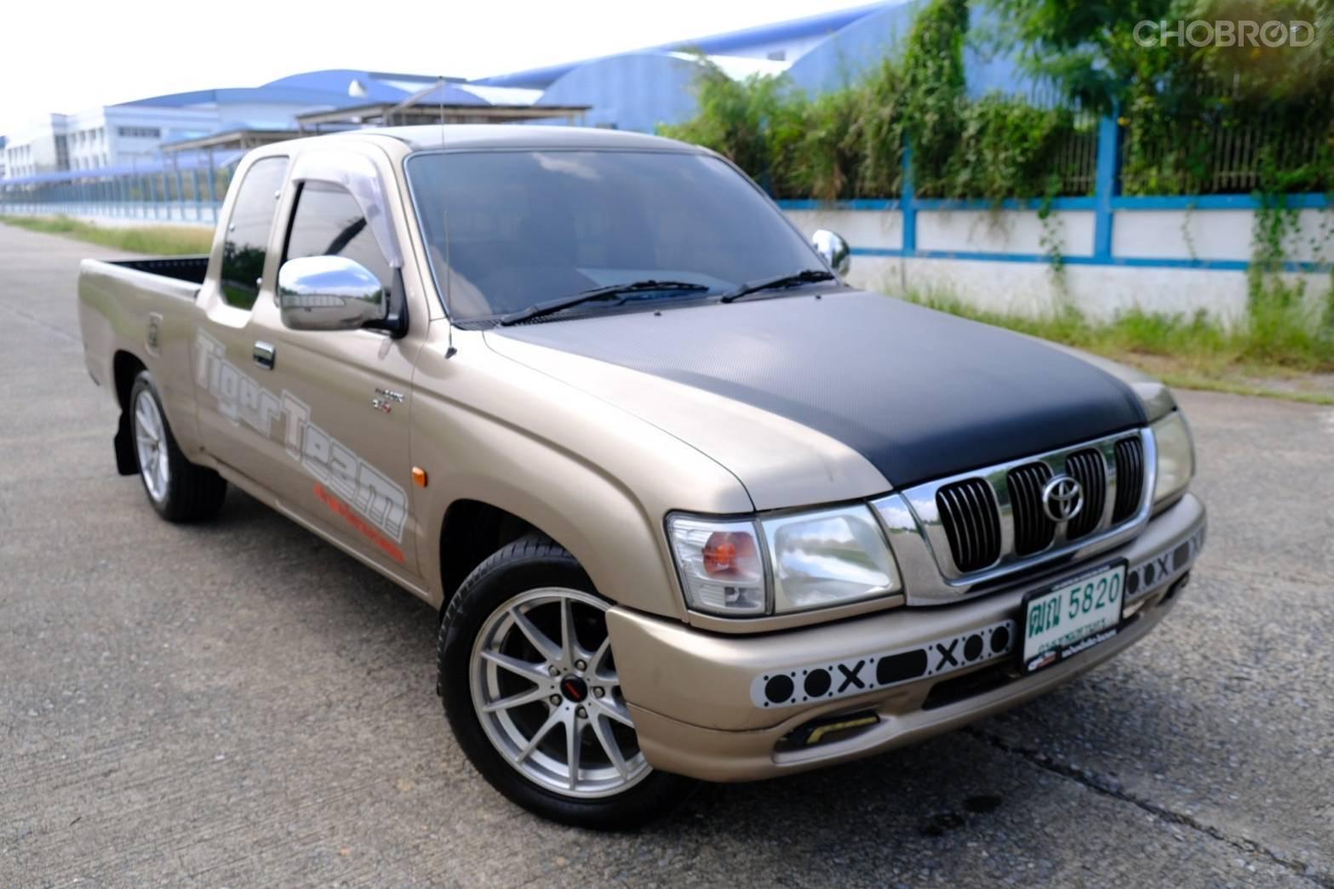license-plate: (1013, 555, 1142, 698)
